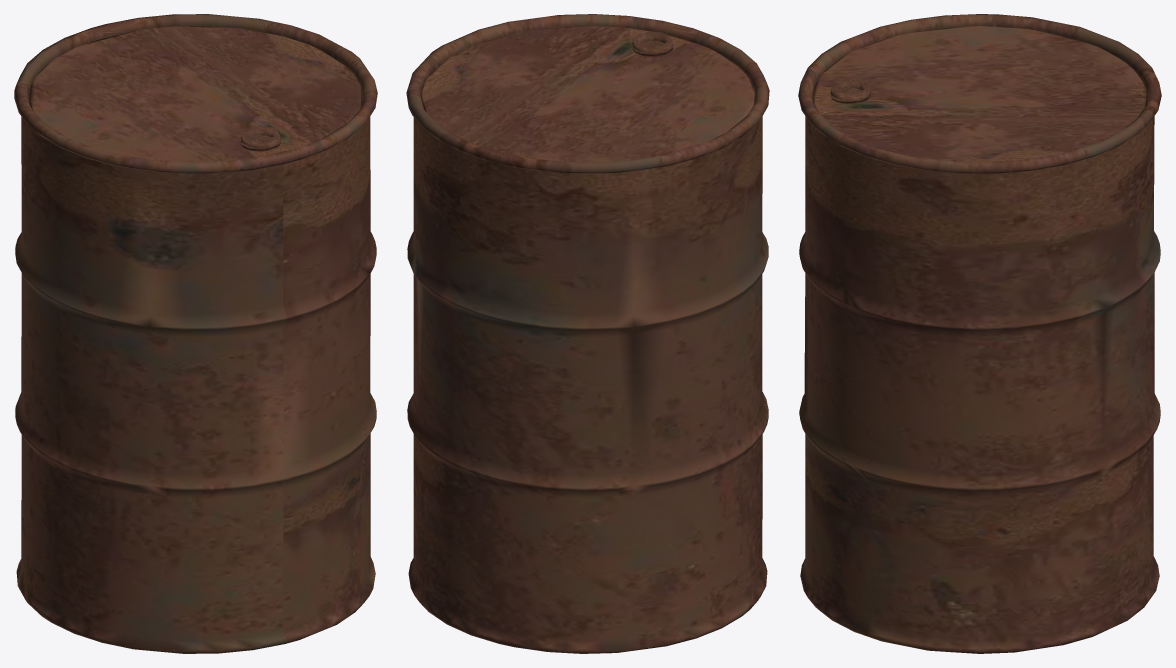
The model's file is lootbarrel_junk.glb.
3 renders of one model, left to right at view 1: azimuth 30°, elevation 25°; view 2: azimuth 150°, elevation 25°; view 3: azimuth 270°, elevation 25°, orthographic.
Parts seen in each view (by area): view 1: lootbarrel_junk; view 2: lootbarrel_junk; view 3: lootbarrel_junk.
Boxes of the visible parts, x1,y1,x2,y2 form: lootbarrel_junk: (14,14,377,653); lootbarrel_junk: (406,14,769,653); lootbarrel_junk: (798,14,1161,653).
Bounding box in the file's own units: 0.7649 × 1.15 × 0.7668.
Materials: 1 (1 with a texture image).
